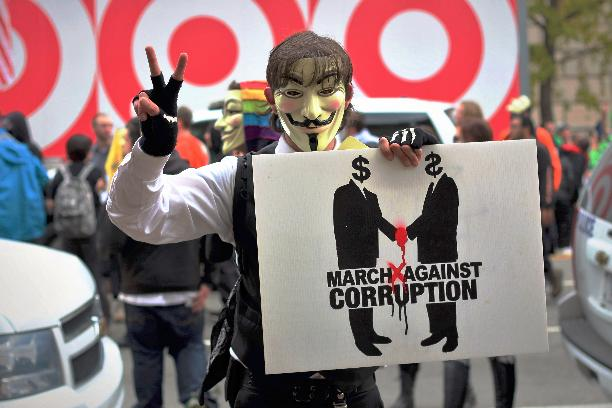Scissors: (131, 42, 193, 153)
